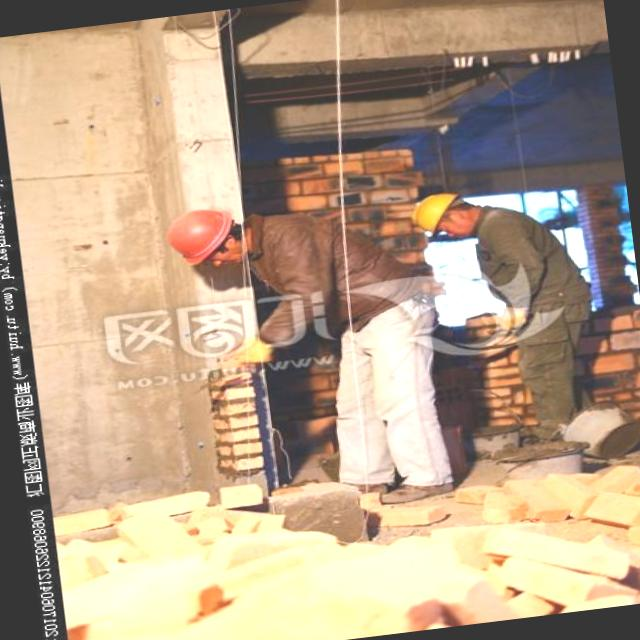helmet: (157, 198, 246, 280), (405, 182, 478, 242)
no-vest: (247, 195, 423, 341), (452, 200, 592, 342)
